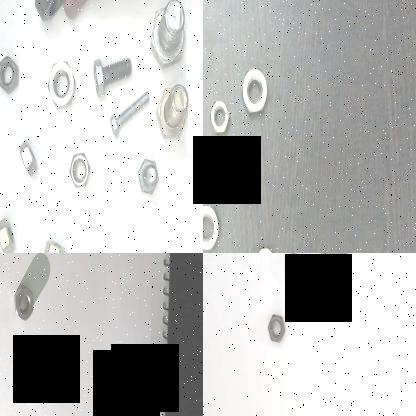Bolts: (145, 0, 190, 70), (152, 76, 194, 142), (86, 45, 136, 100), (105, 85, 151, 138), (132, 153, 164, 197)
NUTS: (43, 51, 79, 116), (238, 68, 270, 120), (14, 138, 46, 183), (65, 148, 94, 192), (207, 93, 232, 139), (0, 209, 24, 253), (0, 50, 23, 94), (14, 282, 36, 326), (203, 196, 219, 253), (235, 160, 256, 202), (266, 308, 288, 343), (281, 253, 302, 282), (286, 278, 305, 308), (41, 233, 69, 253), (331, 253, 349, 279), (249, 243, 275, 253), (315, 253, 337, 261)
